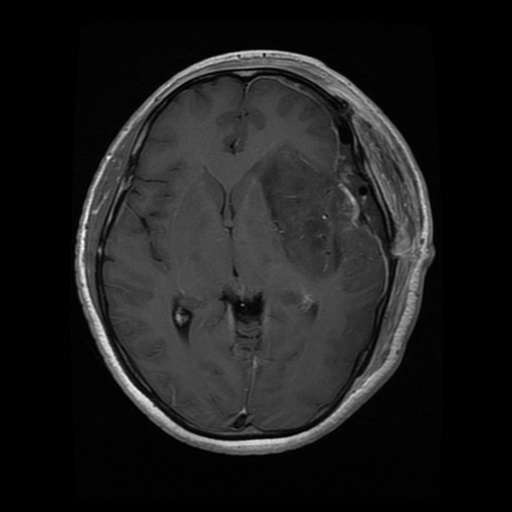glioma: (258, 142, 387, 294)
